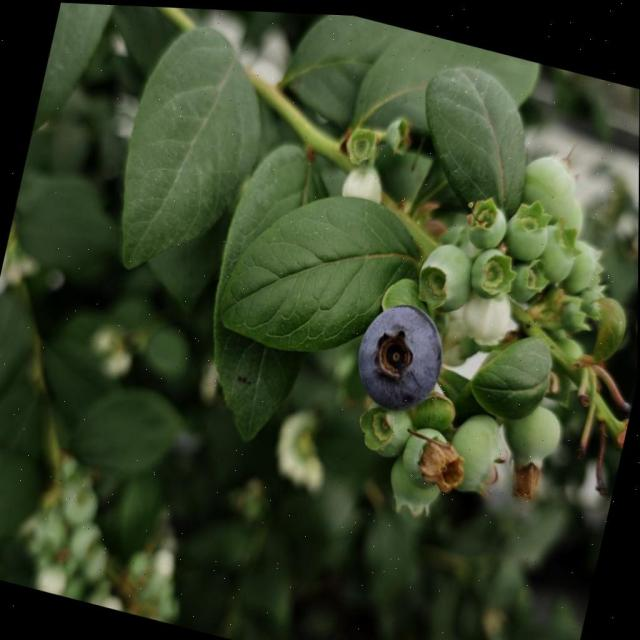RipeBlueBerry: (347, 288, 458, 420)
